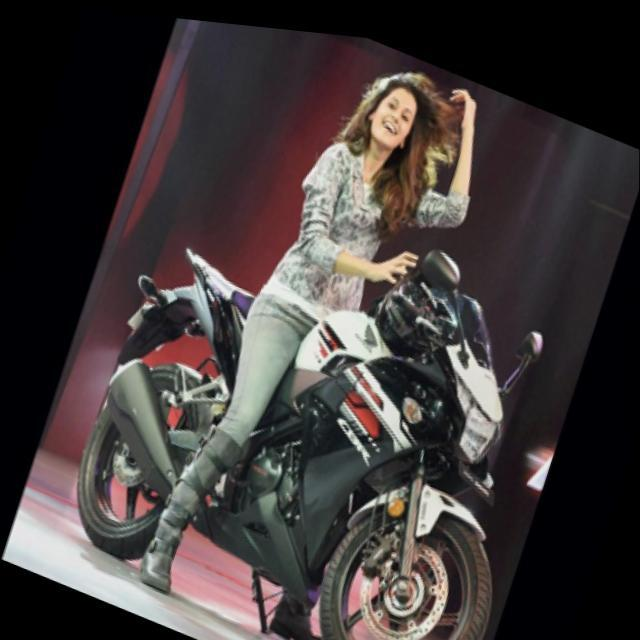Nonhelmet: (346, 62, 440, 168)
